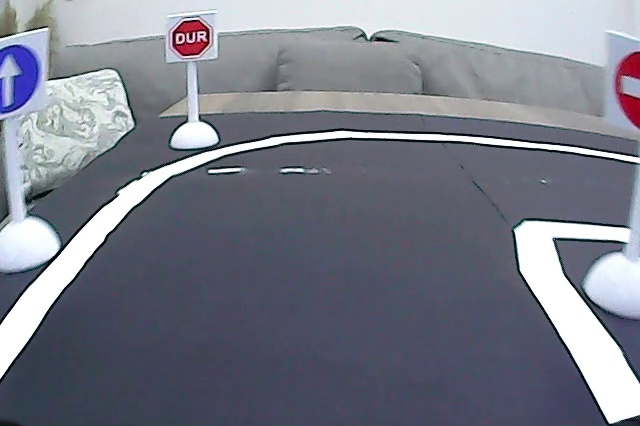stop sign: (170, 14, 214, 59)
